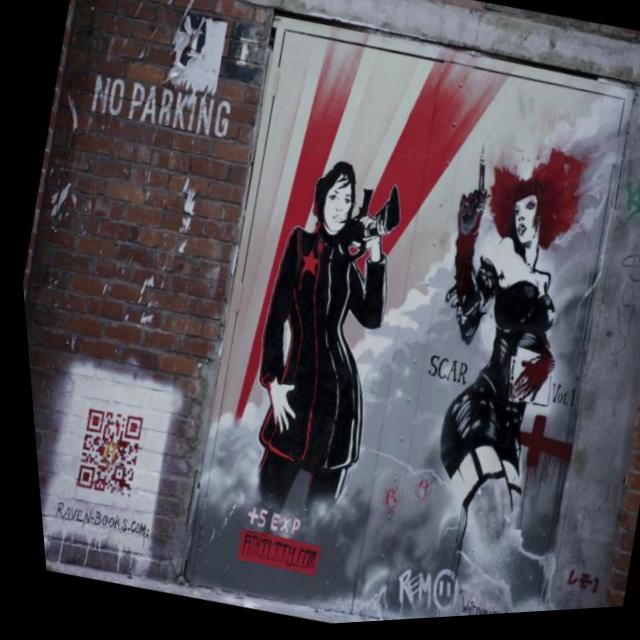qrcode: (63, 407, 141, 501)
